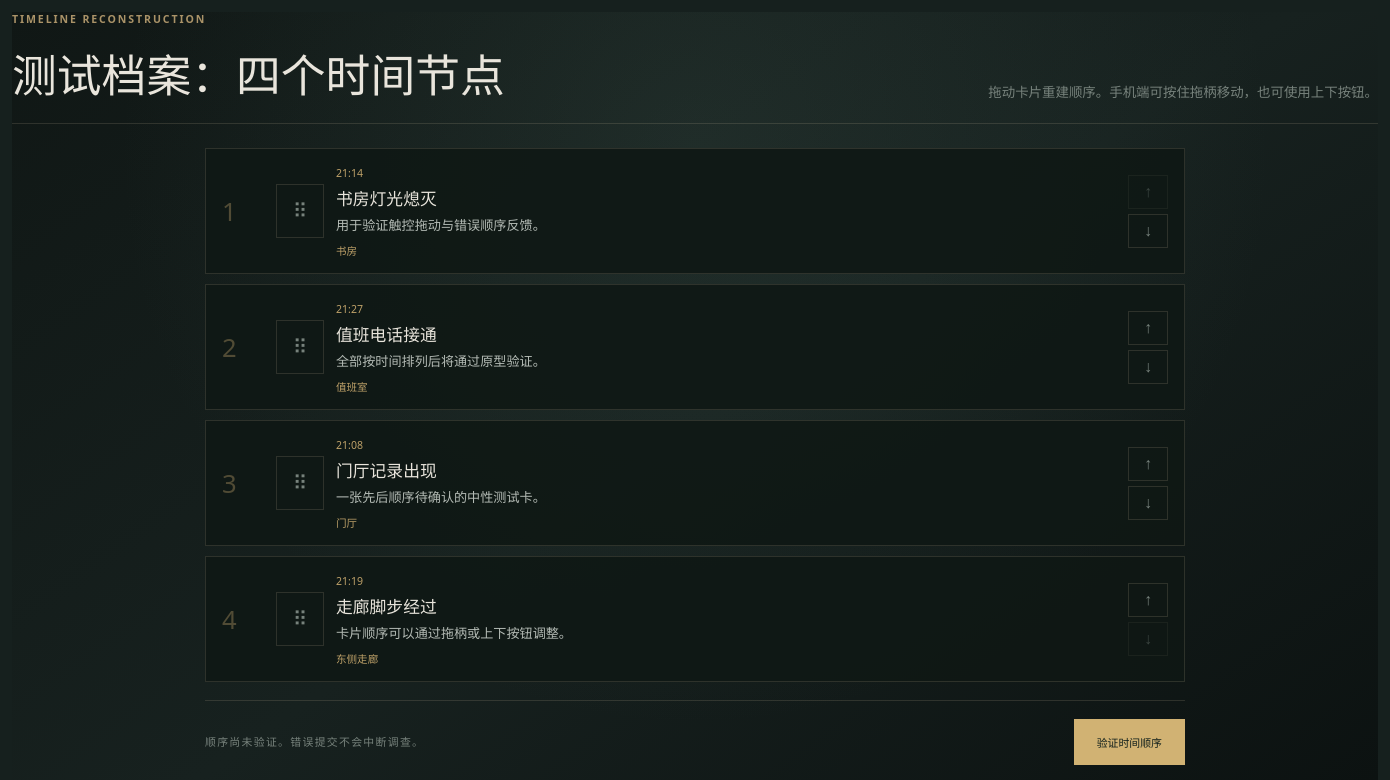
Test: V0.4.2 investigation tool UI › reorders timeline cards and reports correct/incorrect submissions
Click the button "验证时间顺序" at (1129, 742), box [1074,719,1185,765]
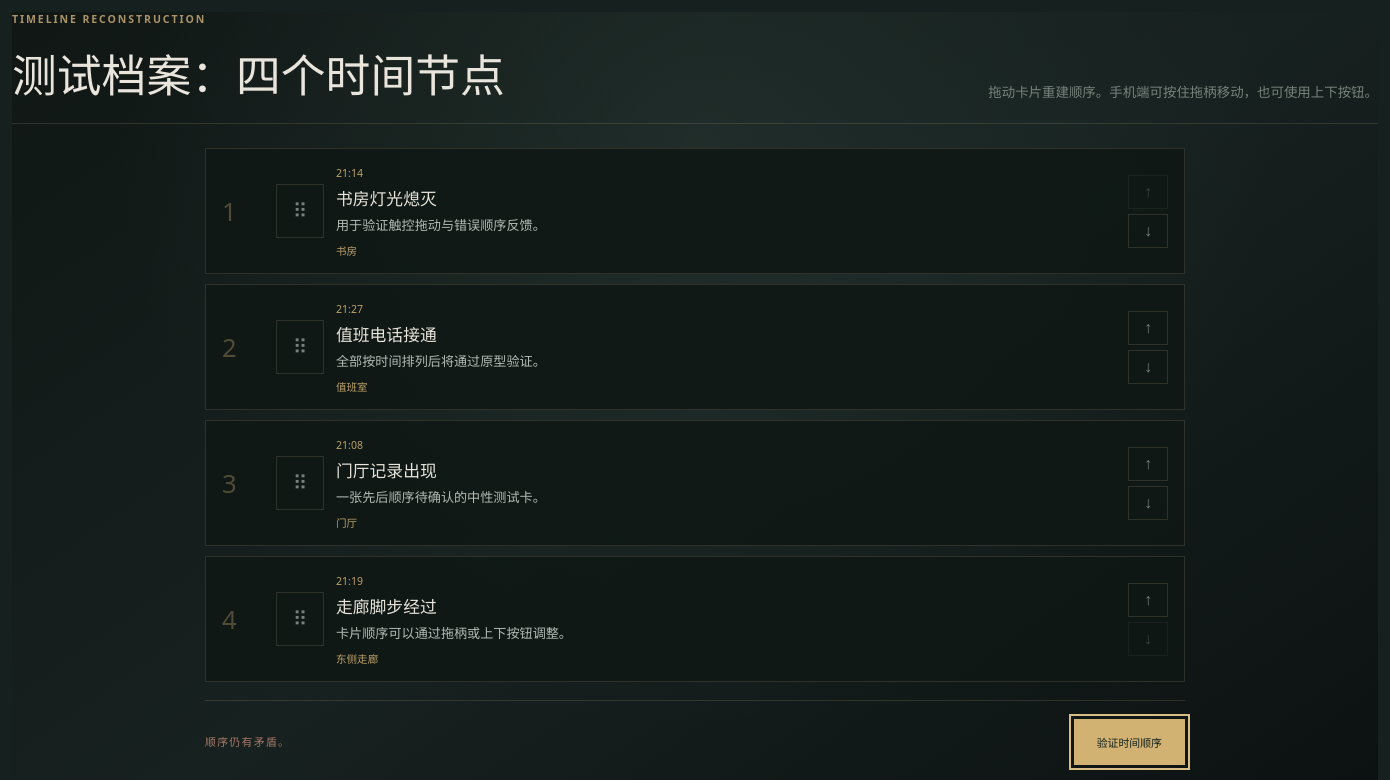
Expected: the text "顺序仍有矛盾。" is shown, [205,733,290,751]
Click the button named "门厅记录出现上移" at (1148, 464), box [1128,446,1168,480]
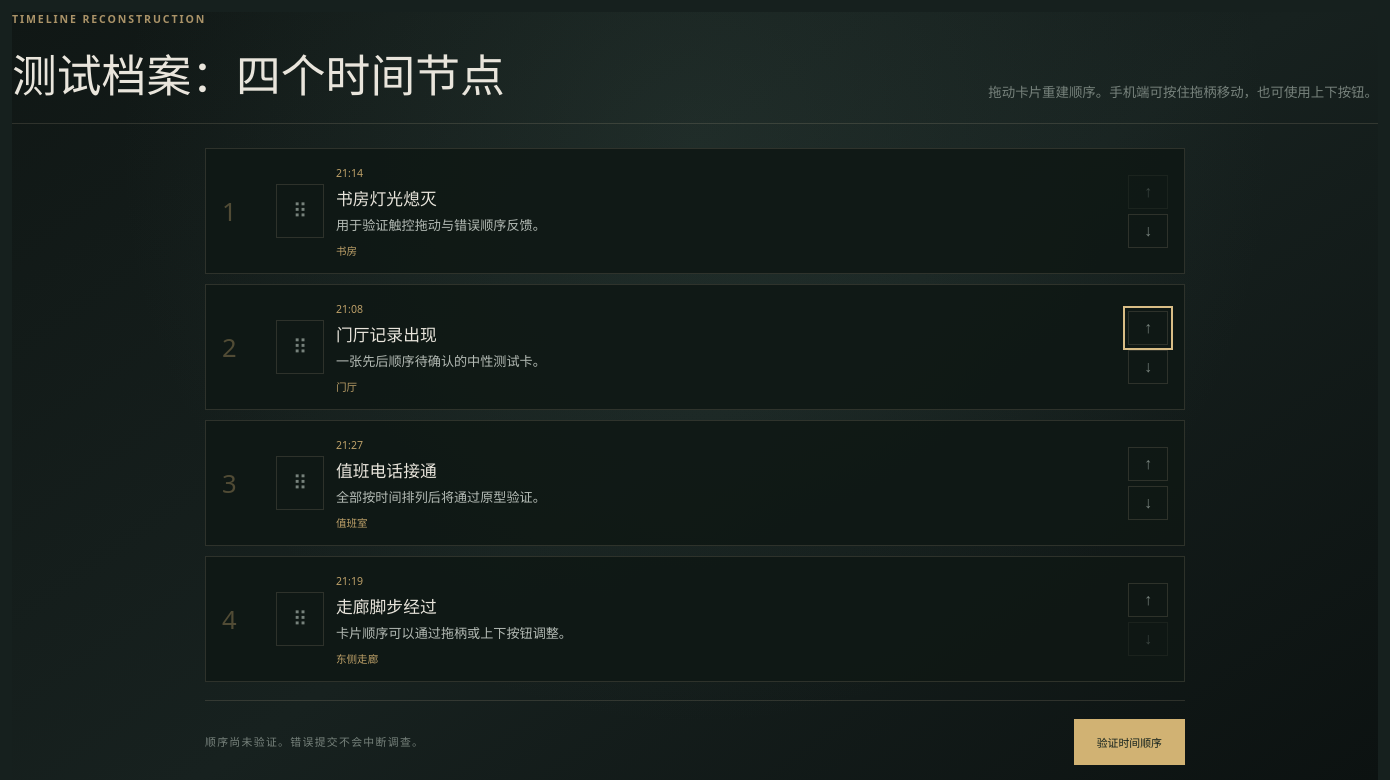
Click the button named "门厅记录出现上移" at (1148, 328), box [1128,310,1168,344]
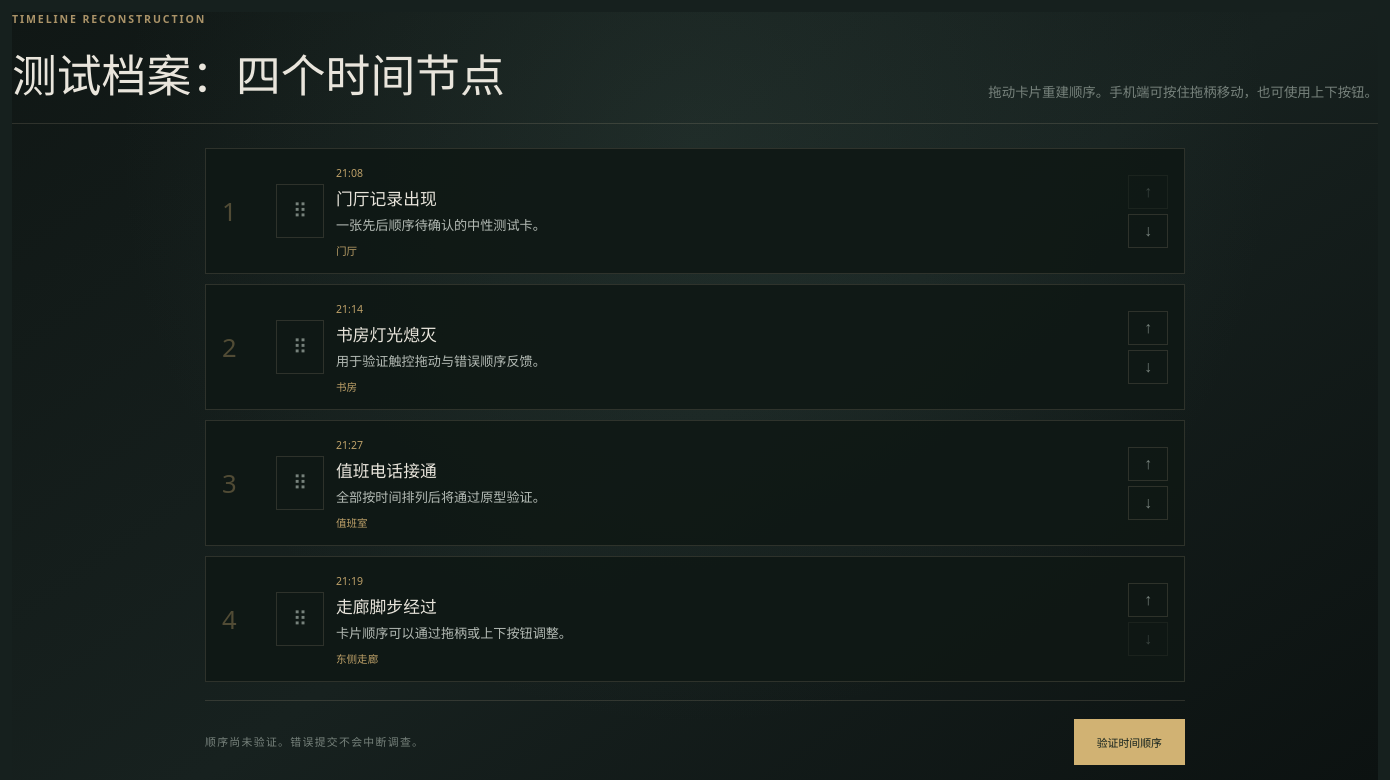
Click the button named "走廊脚步经过上移" at (1148, 600), box [1128,582,1168,616]
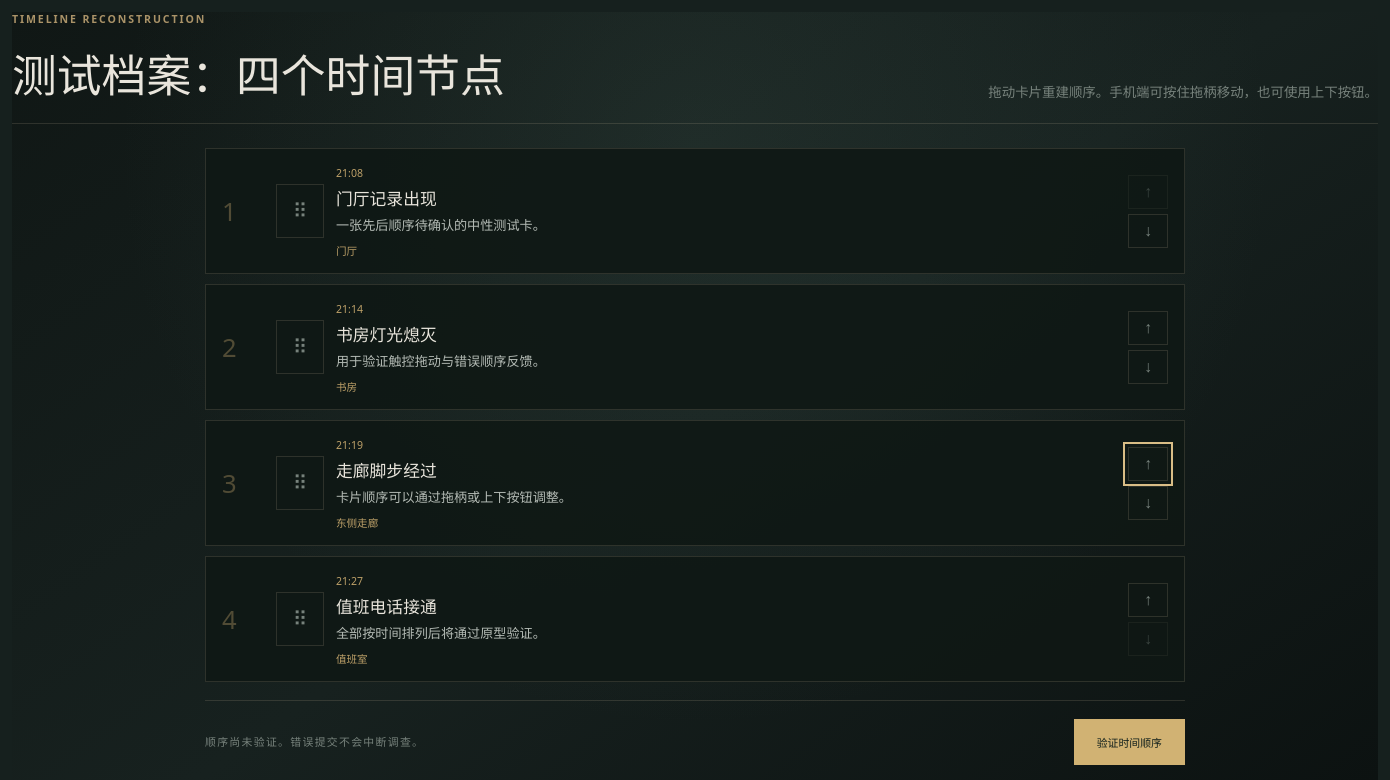
Click the button "验证时间顺序" at (1129, 742), box [1074,719,1185,765]
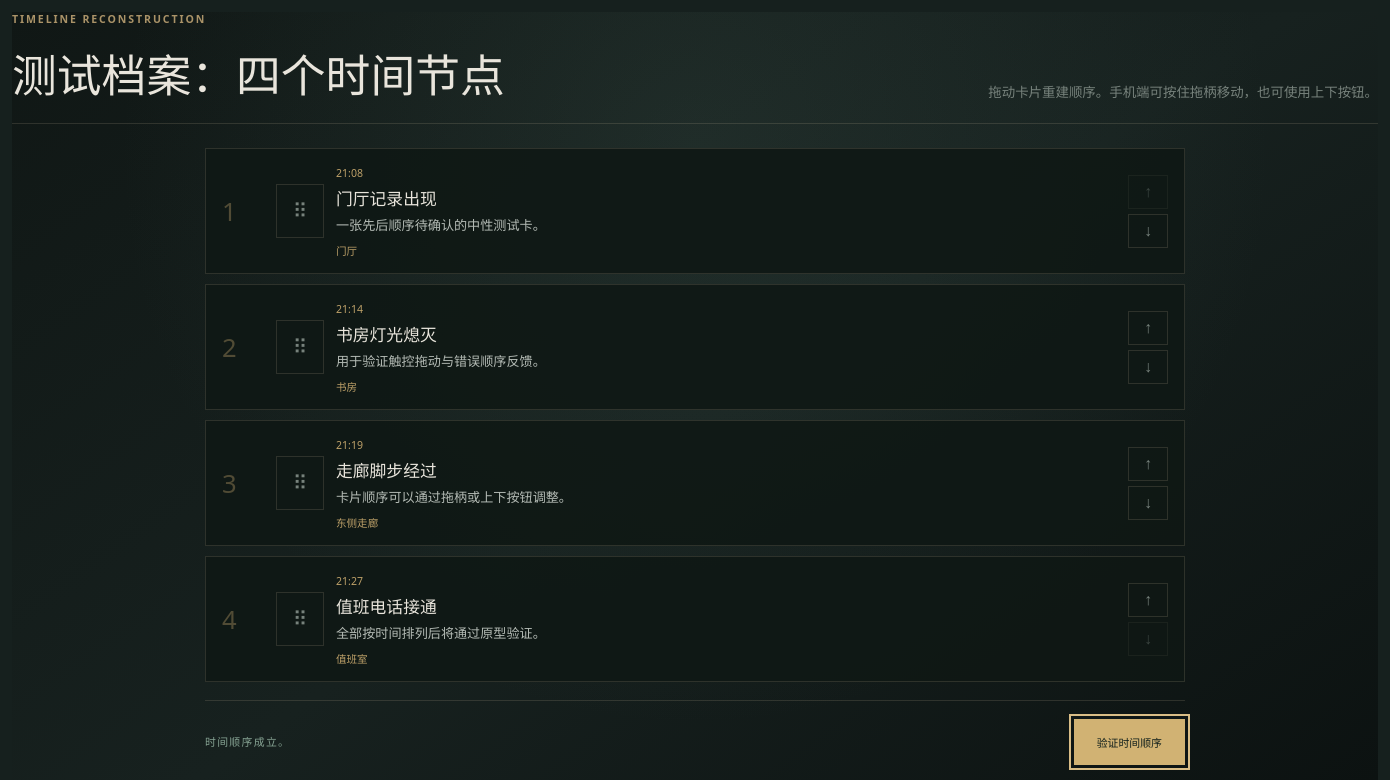
Expected: the text "时间顺序成立。" is shown, [205,733,290,751]
